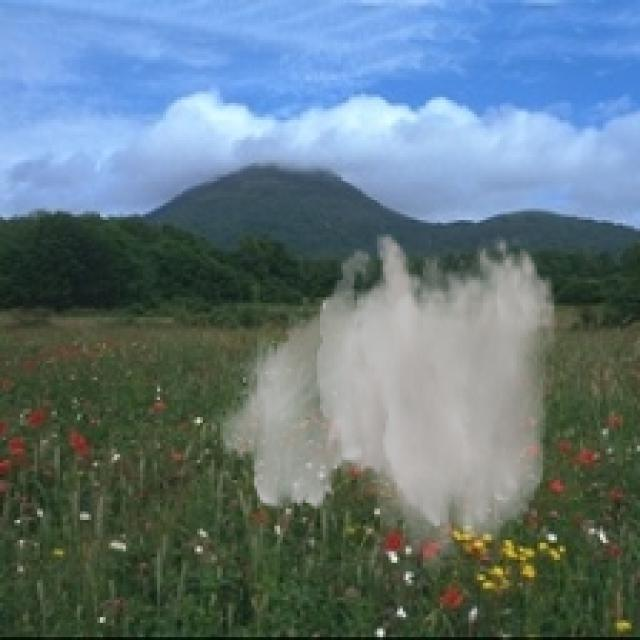smoke: (209, 231, 557, 586)
